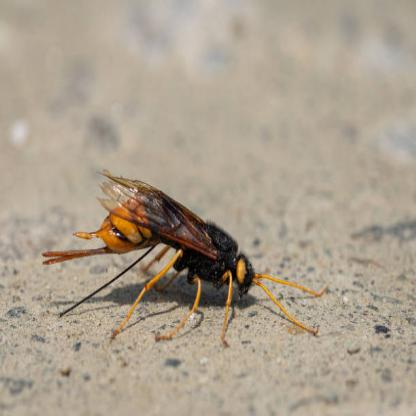sawfly: (39, 166, 331, 348)
